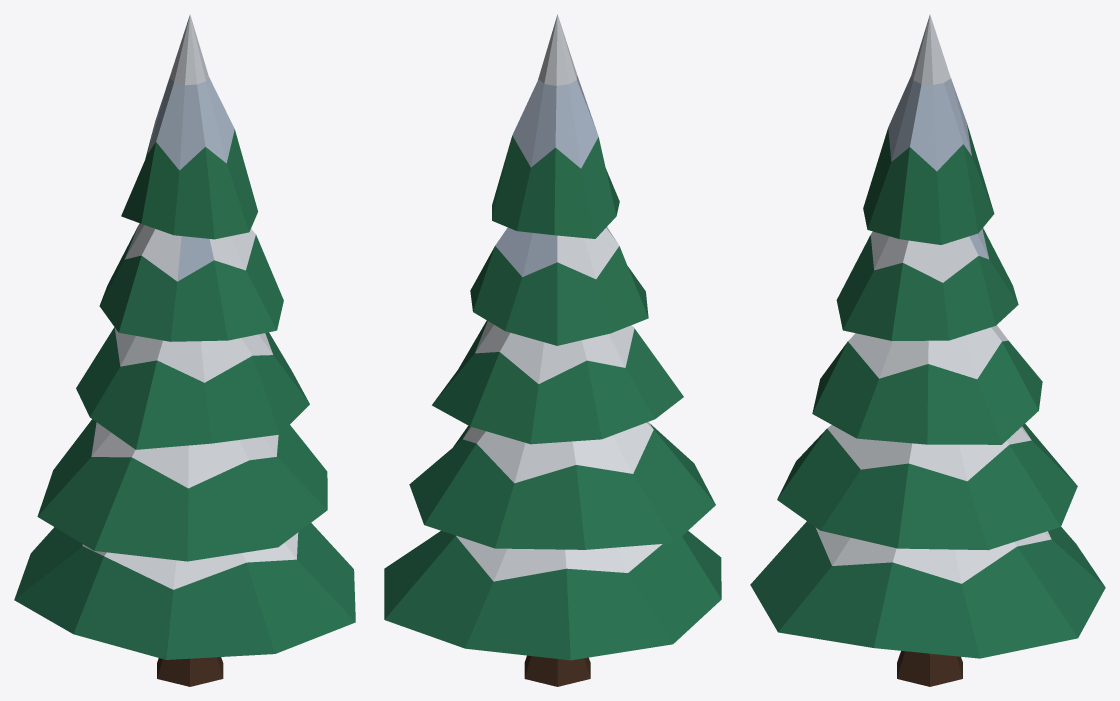
The model's file is Pine_Tall.glb.
The picture shows the model from 3 angles, left to right: view 1: azimuth 30°, elevation 25°; view 2: azimuth 150°, elevation 25°; view 3: azimuth 270°, elevation 25°; orthographic projection.
Parts seen in each view (by area): view 1: Pine_Tall; view 2: Pine_Tall; view 3: Pine_Tall.
Part boxes in pixels (bbox=[...]): Pine_Tall: bbox=[14, 14, 355, 686]; Pine_Tall: bbox=[384, 14, 721, 686]; Pine_Tall: bbox=[750, 14, 1105, 686].
Size of the model in its own units: 8.07 by 17.23 by 8.45.
